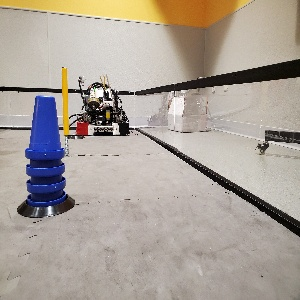Blue_4: (24, 95, 67, 205)
